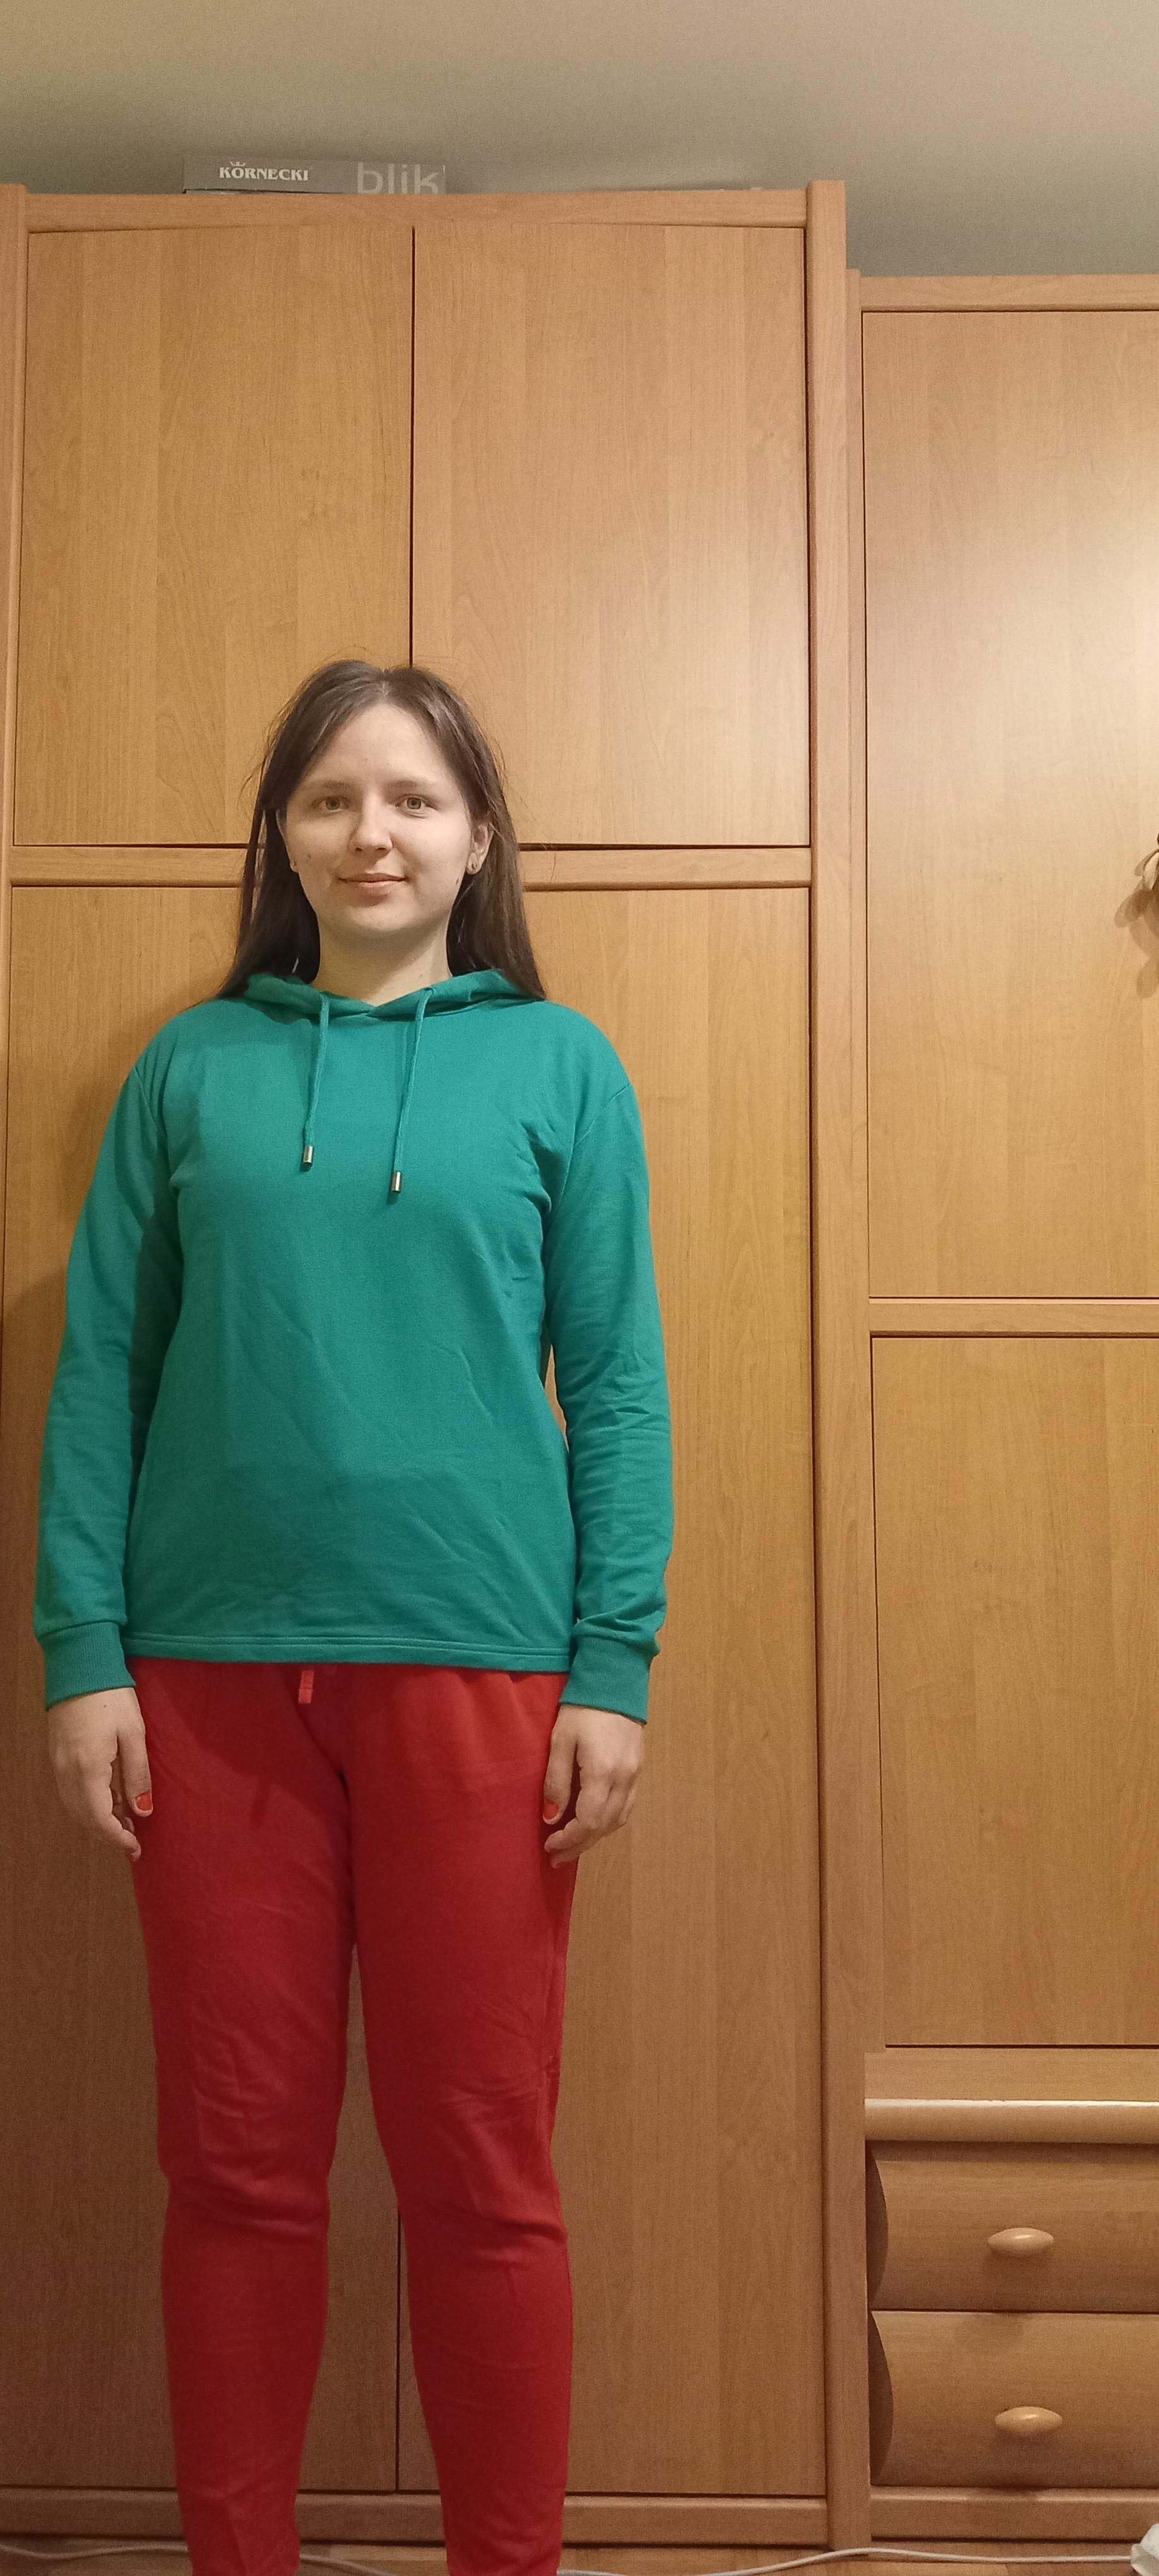pants: (125, 1654, 583, 2576)
sweater: (36, 964, 676, 1720)
